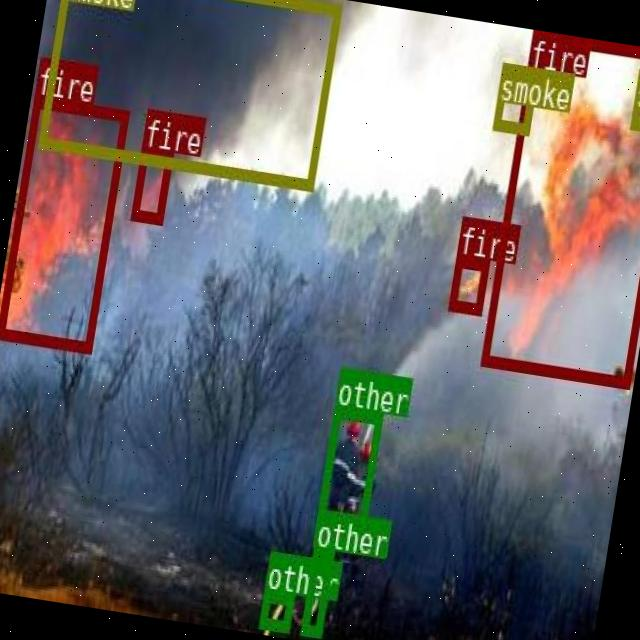fire: (479, 30, 640, 385), (0, 94, 128, 351), (130, 148, 172, 224), (448, 254, 488, 314)
smoke: (36, 0, 340, 190), (491, 62, 538, 132), (629, 68, 640, 132)
